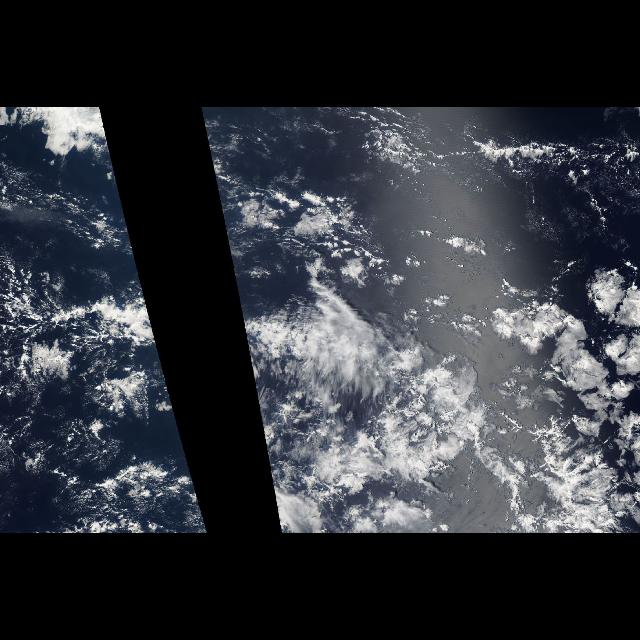Flower: (484, 249, 640, 453)
